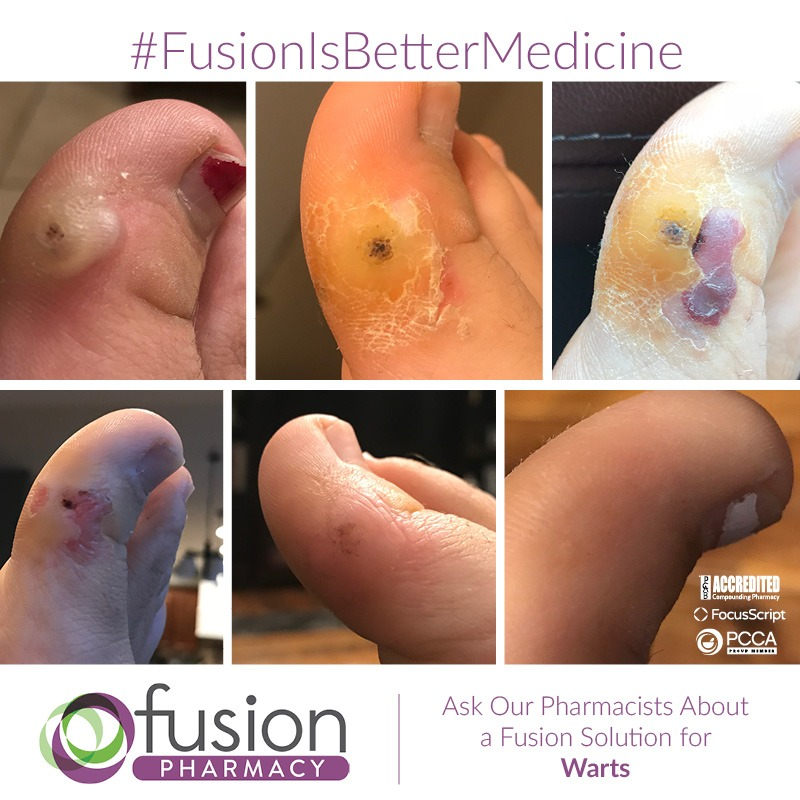Warts: (596, 145, 753, 353), (301, 177, 479, 348), (14, 448, 120, 589), (286, 488, 408, 598), (12, 190, 125, 282)
